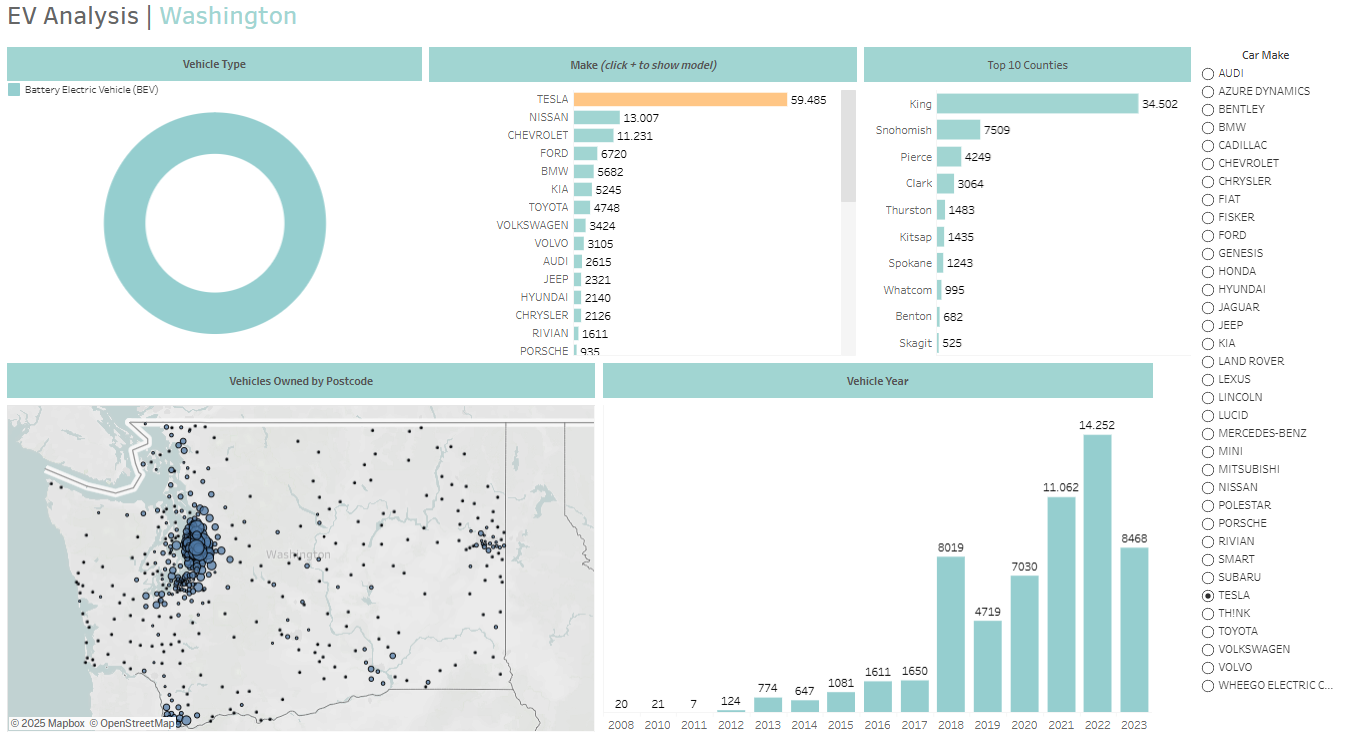

Layout of this report page (visuals, bound fields, positions):
{"tool":"tableau","page":{"name":"Dashboard 1","canvas":[1500,850],"ordinal":0},"visuals":[{"type":"text","box":[8,8,1484,64.6]},{"type":"text","box":[8,72.6,469.2,45]},{"type":"text","box":[477.2,72.6,484.2,47]},{"type":"text","box":[961.4,72.6,370.6,47]},{"type":"parameter","param":"[Parameters].[Parameter 1]","box":[1332,72.6,160,697]},{"type":"legend","title":"Vehicle Type Donut","param":"[federated.0cnst8j18ze4nb14q3u5z0crzqnp].[none:Electric Vehicle Type:nk]","box":[10,114,233,51]},{"type":"worksheet","title":"Make & Model","mark":"Automatic","rows":["Make"],"cols":["DOL Vehicle ID"],"box":[477.2,119.6,484.2,304.6]},{"type":"worksheet","title":"Top 10 Countries","mark":"Automatic","rows":["County"],"cols":["DOL Vehicle ID"],"box":[961.4,119.6,370.6,304.6]},{"type":"worksheet","title":"Vehicle Type Donut","mark":"Pie","rows":["Calculation_793196530721505282","Calculation_793196530721505282"],"box":[8,120,469.2,304.2]},{"type":"text","box":[8,424.2,661.9,47.1]},{"type":"text","box":[669.9,424.2,618.8,47.1]},{"type":"blank","box":[1288.6,424.2,43.4,417.8]},{"type":"worksheet","title":"Map","mark":"Automatic","box":[8,471.3,661.9,370.7]},{"type":"worksheet","title":"Year and Type","mark":"Bar","rows":["DOL Vehicle ID"],"cols":["Model Year"],"box":[669.9,471.3,618.8,370.7]}]}

Visuals, with their boxes on the page's 1500x850 design canvas (x1, y1, x2, y2). These are canvas units, not pixel positions in the 1354x736 screenshot, which may show the page scaled, cropped or inside an application window:
text: l=8, t=8, r=1492, b=73
text: l=8, t=73, r=477, b=118
text: l=477, t=73, r=961, b=120
text: l=961, t=73, r=1332, b=120
parameter: l=1332, t=73, r=1492, b=770
"Vehicle Type Donut" legend: l=10, t=114, r=243, b=165
"Make & Model" worksheet: l=477, t=120, r=961, b=424
"Top 10 Countries" worksheet: l=961, t=120, r=1332, b=424
"Vehicle Type Donut" worksheet (Pie marks): l=8, t=120, r=477, b=424
text: l=8, t=424, r=670, b=471
text: l=670, t=424, r=1289, b=471
blank: l=1289, t=424, r=1332, b=842
"Map" worksheet: l=8, t=471, r=670, b=842
"Year and Type" worksheet (Bar marks): l=670, t=471, r=1289, b=842
